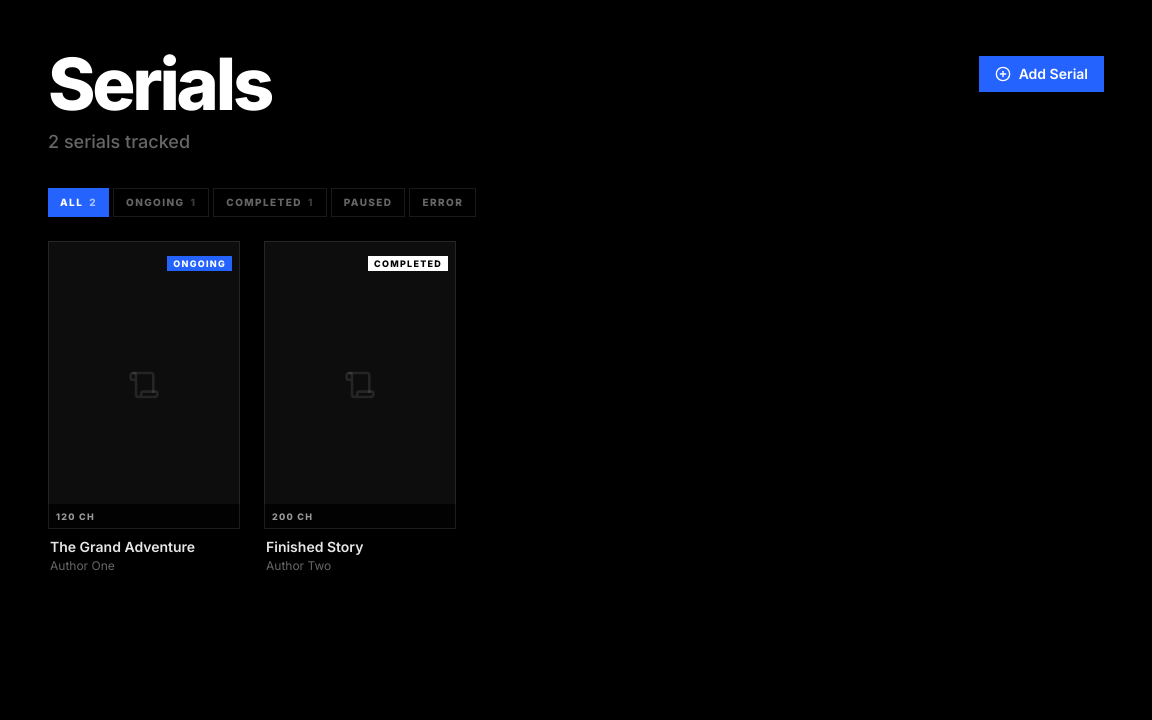
Test case: Serials page › opens AddSerialModal on button click
The image size is (1152, 720).
Click the button with test id "add-serial-btn".
click(1041, 74)  # box left=979, top=56, right=1104, bottom=92
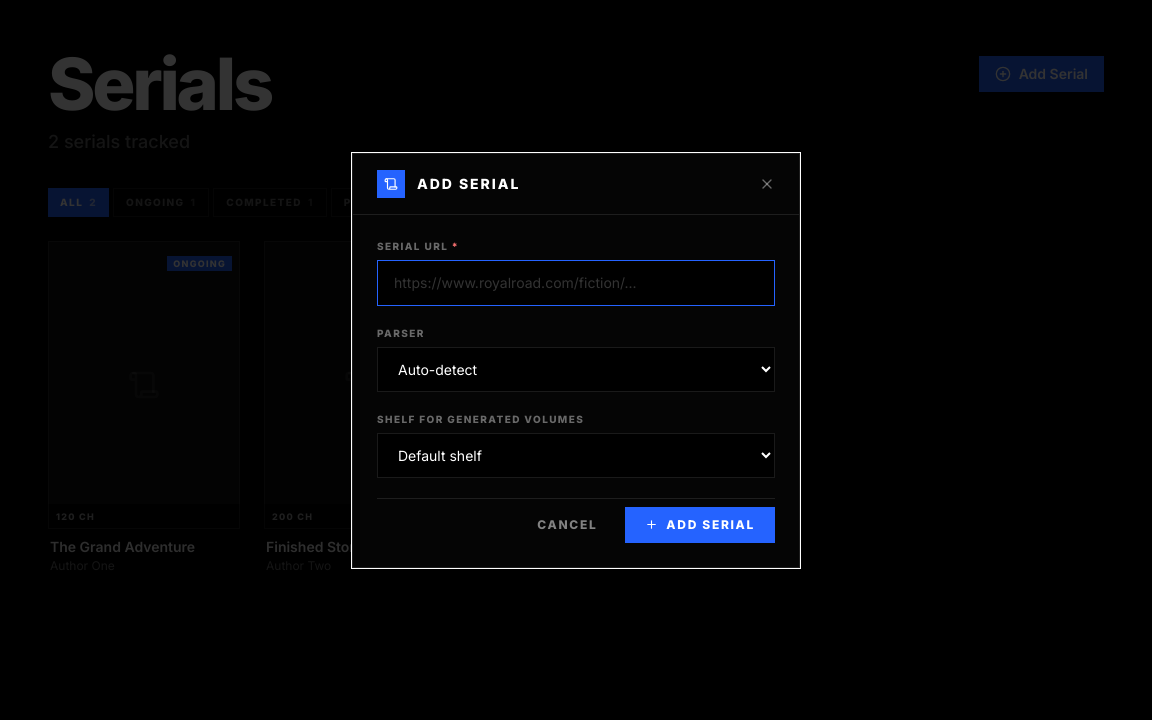
Now the element with test id "add-serial-modal" is shown
